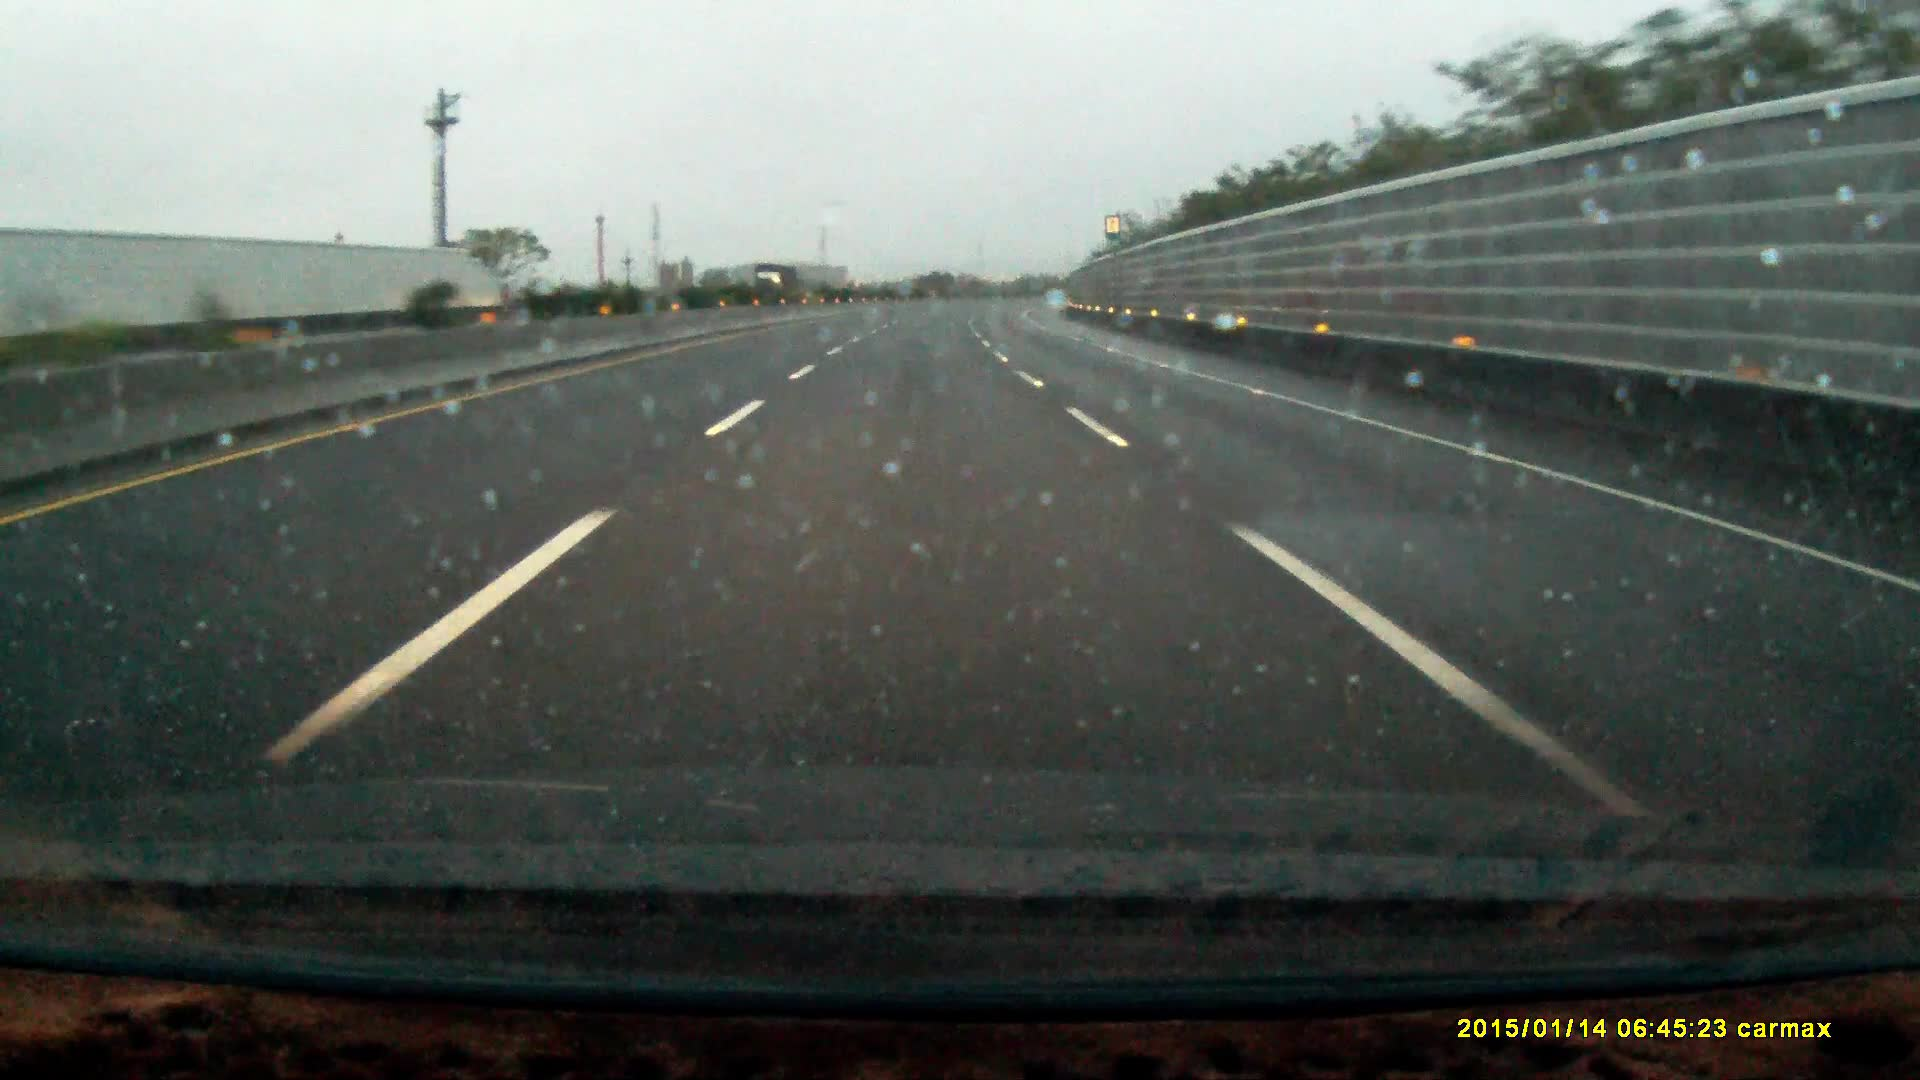vehicle: (753, 266, 800, 302)
